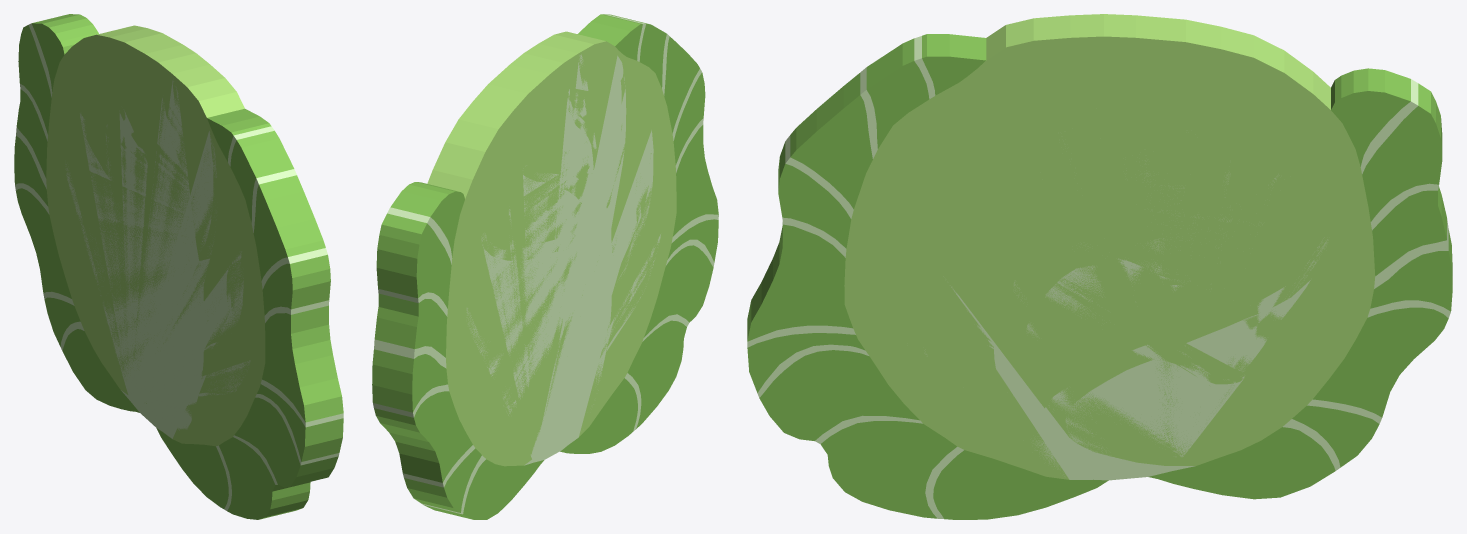
Rendered from salad.fbx.
3 renders of one model, left to right at view 1: azimuth 30°, elevation 25°; view 2: azimuth 150°, elevation 25°; view 3: azimuth 270°, elevation 25°, orthographic. The views are drawn at different scales.
Visible parts, largest first — view 1: Plan.018; view 2: Plan.018; view 3: Plan.018.
Part boxes in pixels (box(x1,y1,x2,y2)): Plan.018: box(14, 14, 343, 519); Plan.018: box(372, 14, 718, 519); Plan.018: box(747, 14, 1452, 519).
Bounding box in the file's own units: 25.08 × 251 × 332.
